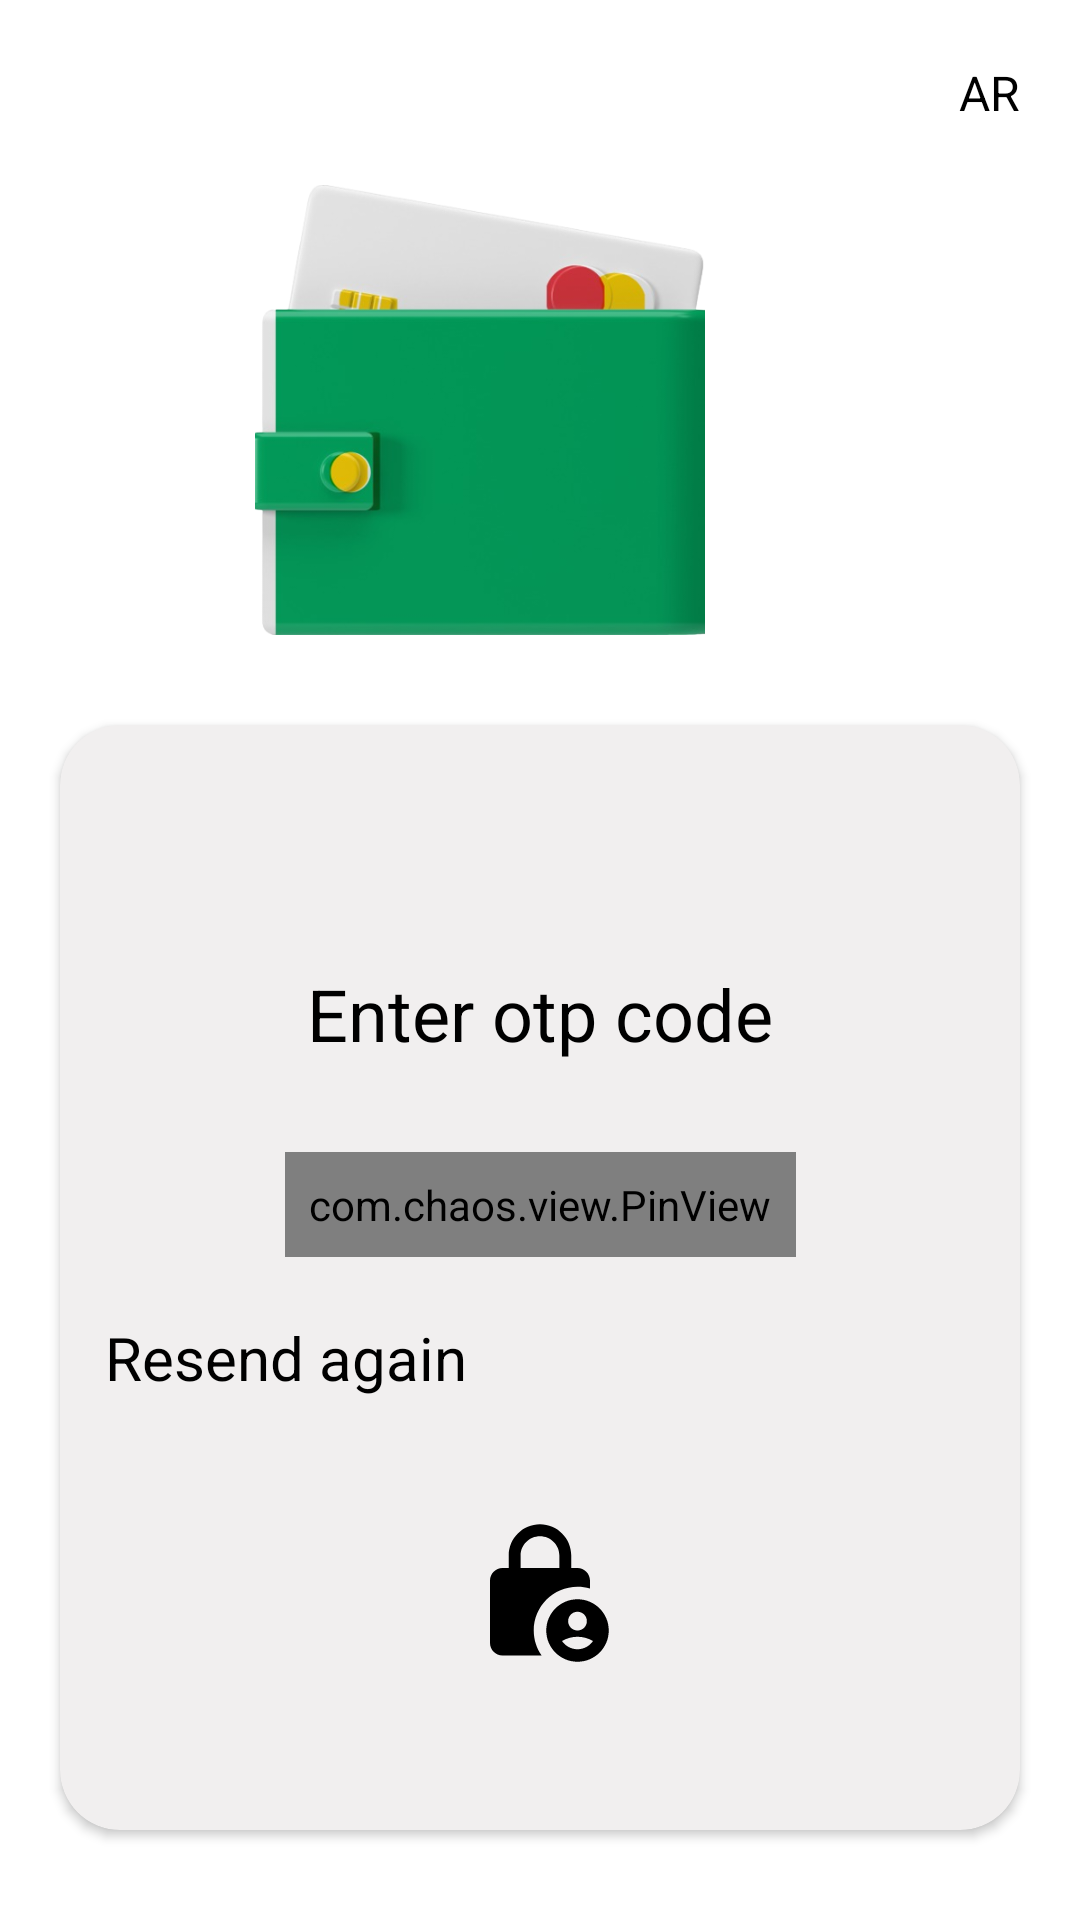

Screen size 1080px x 1920px. Icon name, then its center in pixels as point (x, y):
lock person: point (549, 1593)
